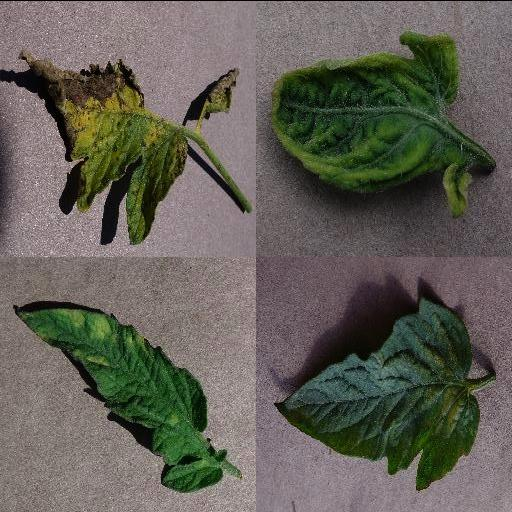Leaf Mold: (15, 306, 223, 492)
Septoria: (19, 47, 189, 244)
Spider Mites: (273, 294, 479, 488)
Yellow Leaf Curl Virus: (265, 31, 459, 195)
